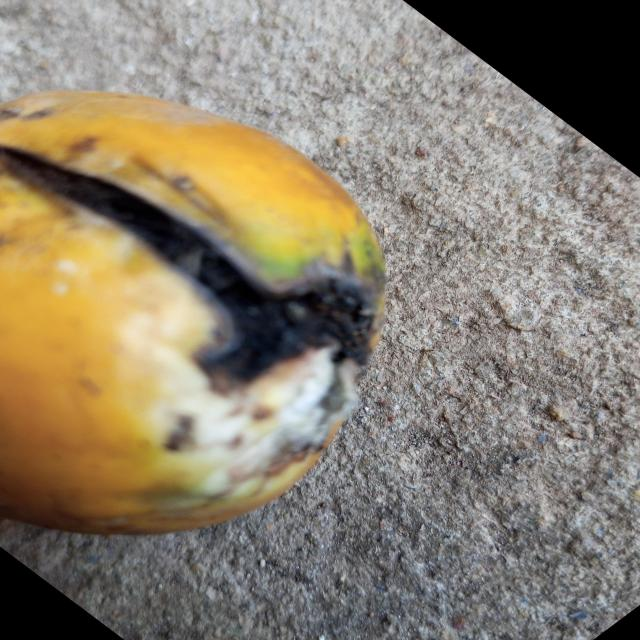damaged: (0, 91, 386, 533)
